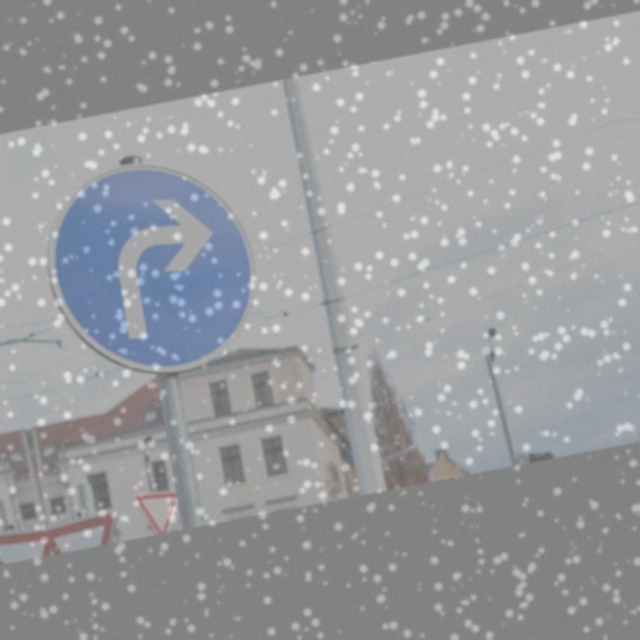Compulsory_Turn_Right_Ahead: (35, 145, 266, 393)
